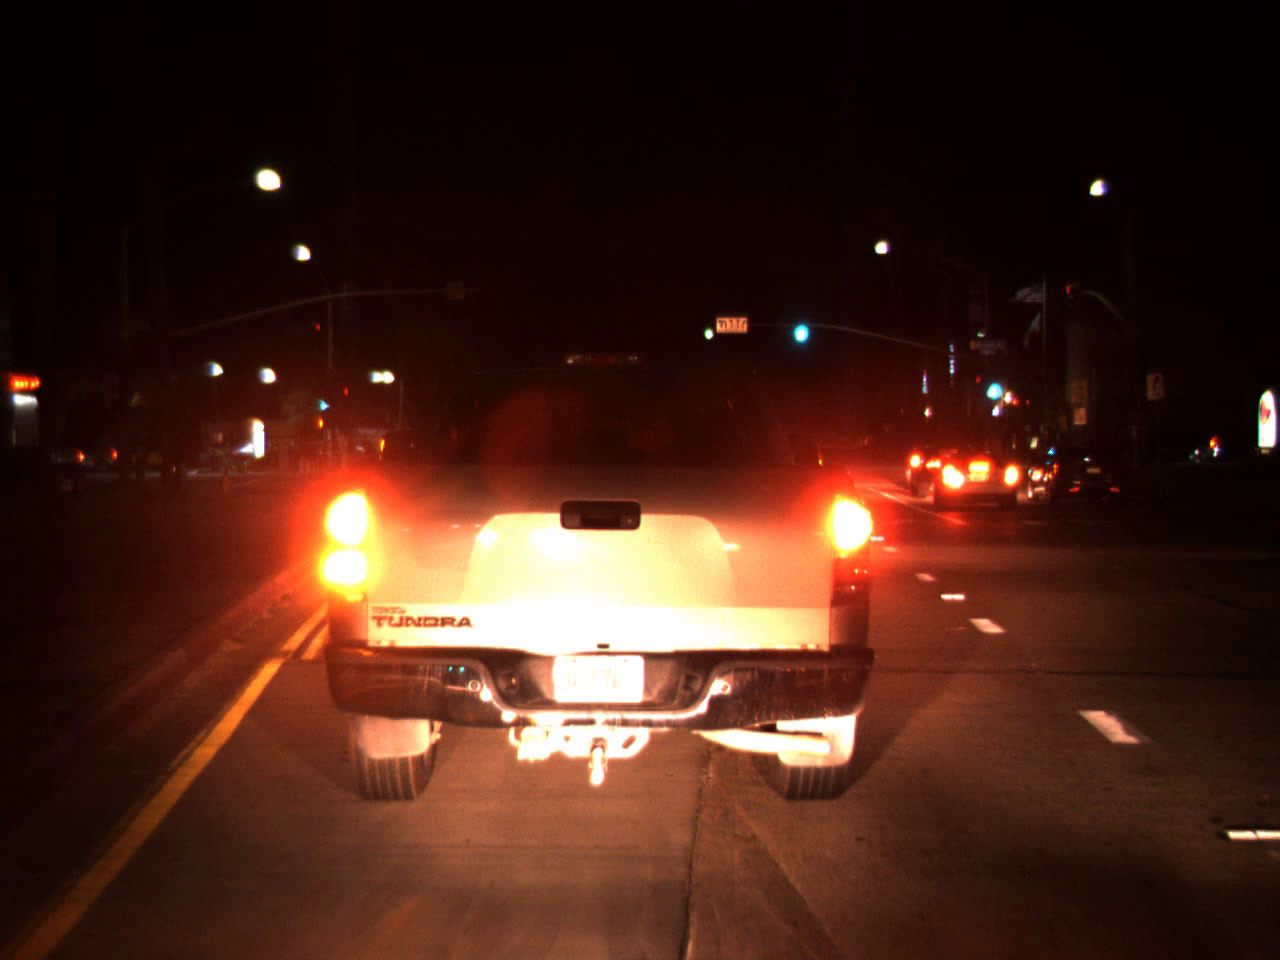go: (981, 361, 1006, 406), (788, 302, 811, 350), (698, 315, 714, 342), (315, 390, 329, 414)
